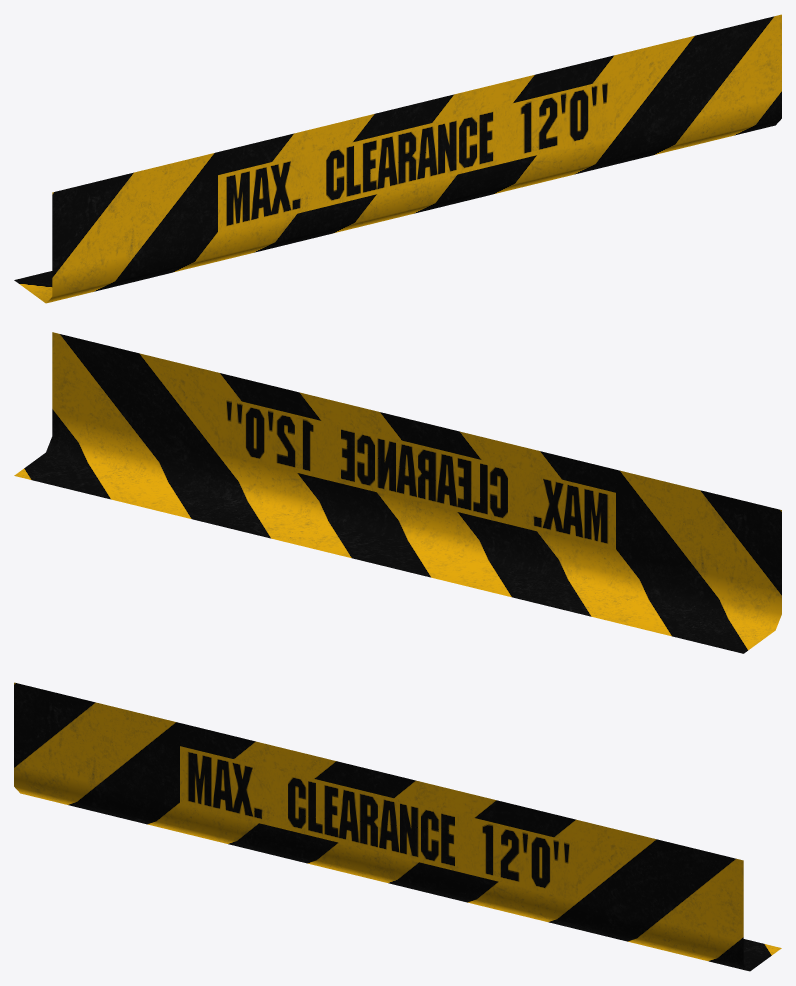
The model's file is signage_longhall_frame_ceiling.fbx.
The picture shows the model from 3 angles, top to bottom: view 1: azimuth 30°, elevation 25°; view 2: azimuth 150°, elevation 25°; view 3: azimuth 330°, elevation 25°; orthographic projection.
Visible parts, largest first — view 1: signage_longhall_frame_ceiling; view 2: signage_longhall_frame_ceiling; view 3: signage_longhall_frame_ceiling.
Boxes of the visible parts, <box> form: signage_longhall_frame_ceiling: <box>14,14,781,303</box>; signage_longhall_frame_ceiling: <box>14,332,781,653</box>; signage_longhall_frame_ceiling: <box>14,682,781,971</box>.
Size of the model in its own units: 0.1524 by 1.68 by 0.254.
